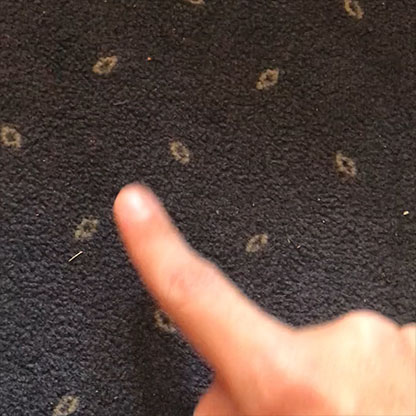fingertip: (101, 176, 176, 233)
